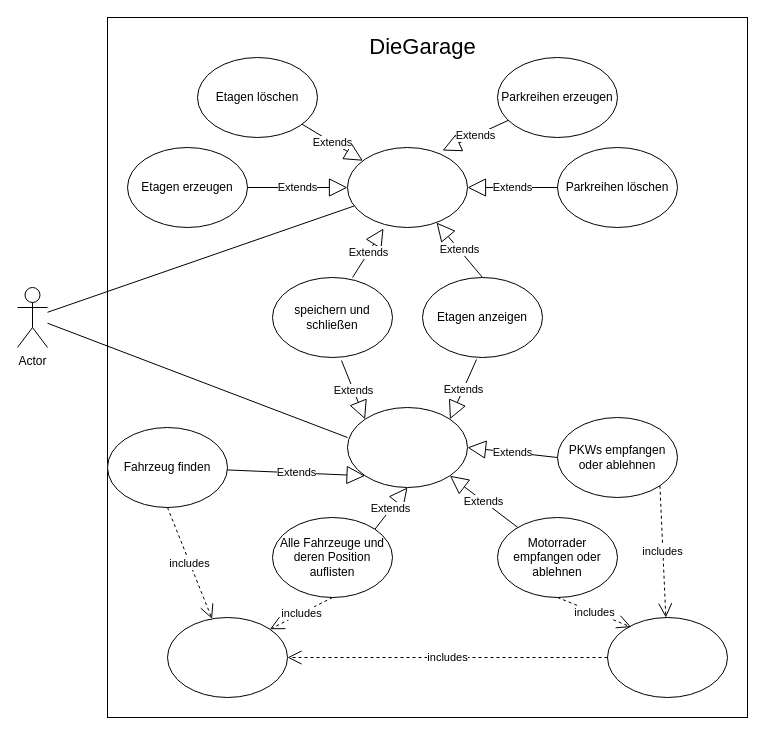
The diagram is 765 pixels wide and 735 high, and some of its shapes have lost their labels. Each missing label, with the centre of its shape:
"BusinessMode" goes at [407,447].
"CreateMode" goes at [407,187].
"Parkhaus durchsuchen" goes at [227,657].
"passender Parkplatz frei?" goes at [667,657].
